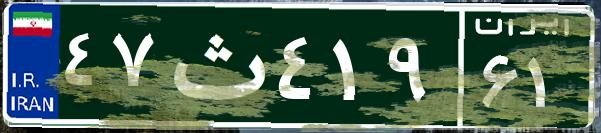1: (330, 28, 385, 110), (525, 38, 570, 115)
4: (273, 28, 330, 110), (57, 26, 110, 107)
6: (475, 38, 525, 113)
7: (110, 28, 158, 105)
9: (385, 28, 445, 110)
ث: (158, 15, 273, 115)
